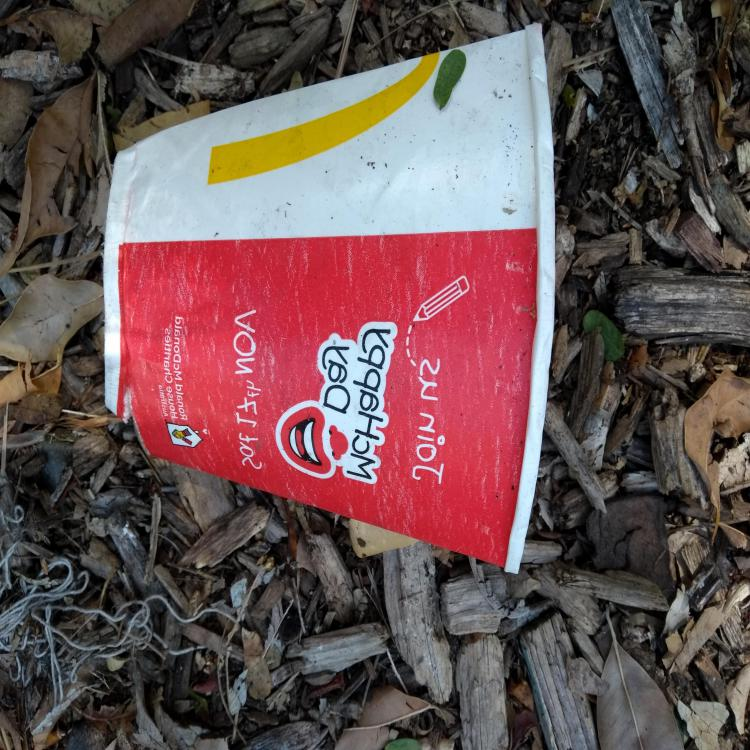Paper cup: (103, 23, 555, 574)
Rope - strings: (1, 505, 235, 711)
